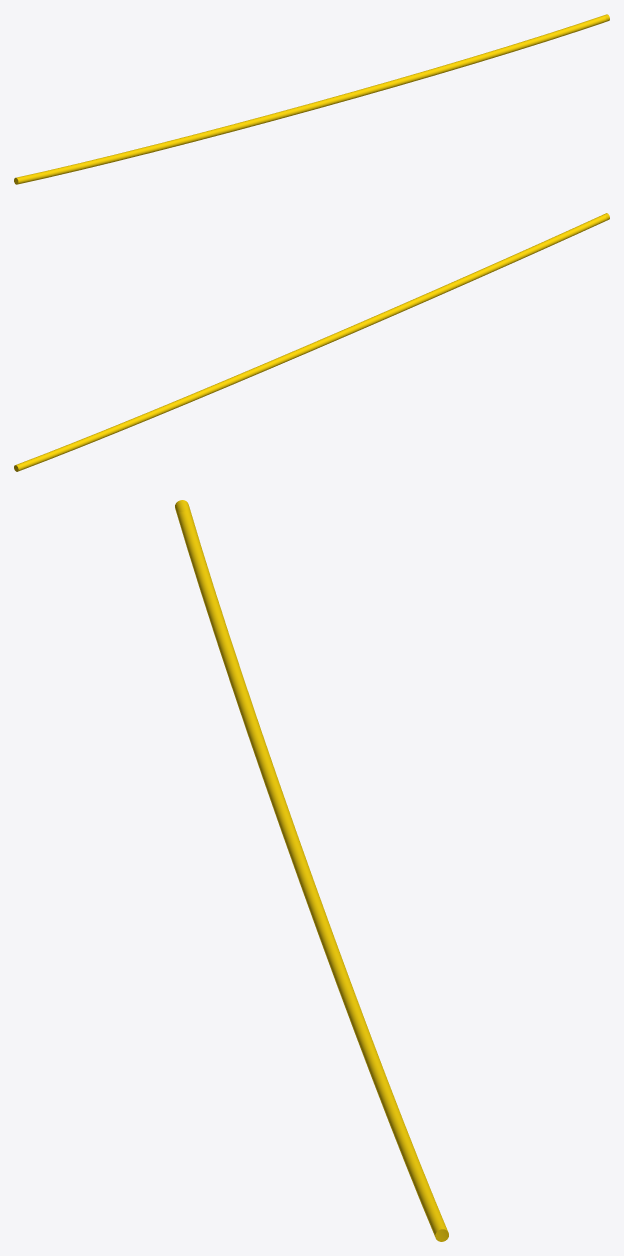
File: Event_421115418_track_44.fbx
3 renders of one model, top to bottom at view 1: azimuth 30°, elevation 25°; view 2: azimuth 210°, elevation 25°; view 3: azimuth 270°, elevation 25°, orthographic. The views are drawn at different scales.
Visible parts, largest first — view 1: Model; view 2: Model; view 3: Model.
Boxes of the visible parts, x1,y1,x2,y2 form: Model: [14, 14, 609, 184]; Model: [14, 213, 609, 471]; Model: [175, 500, 448, 1241].
Size of the model in its own units: 4.31 by 0.3173 by 0.7779.
